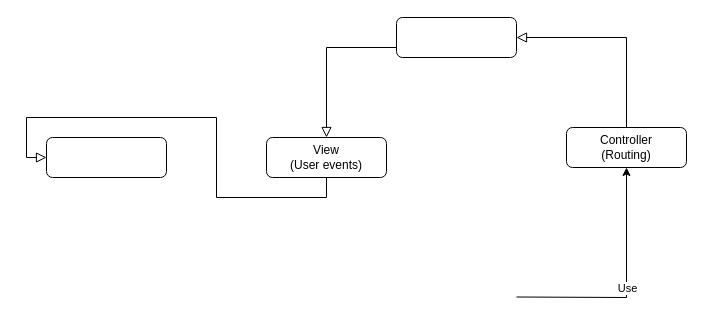
The diagram is 704 pixels wide and 323 high, and some of its shapes have lost their labels. The shapes that lost their labels are listed below. From the top down, each one's box as (x1, y1, x2, y2) in pixels, then its label:
(396, 16, 516, 58): Model (Networking)
(46, 136, 166, 178): Client
